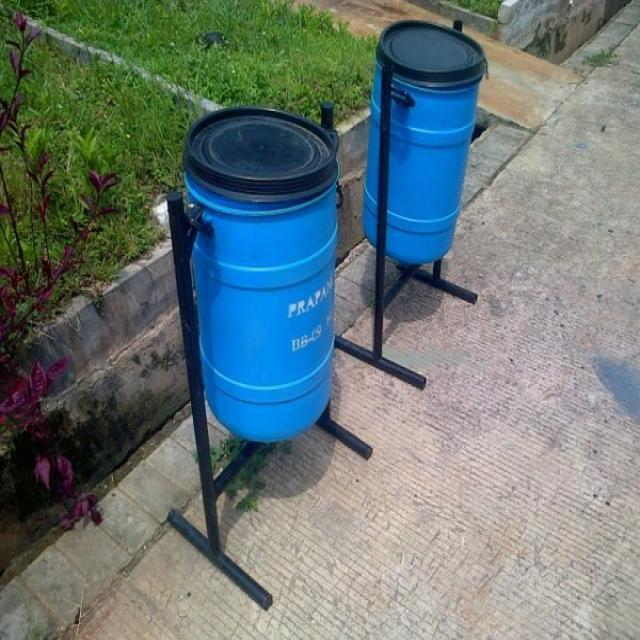Dumpster: (180, 101, 342, 446), (368, 12, 487, 270)
